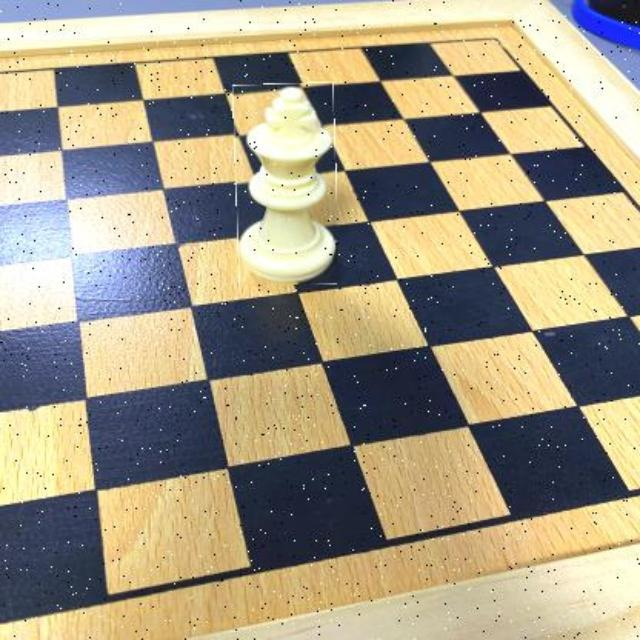white-king: (233, 82, 336, 285)
